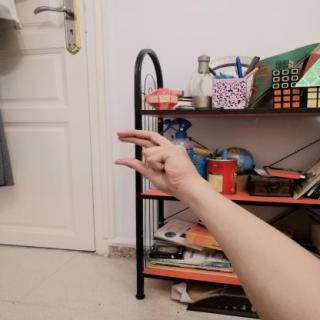DHELL: (106, 123, 200, 199)
